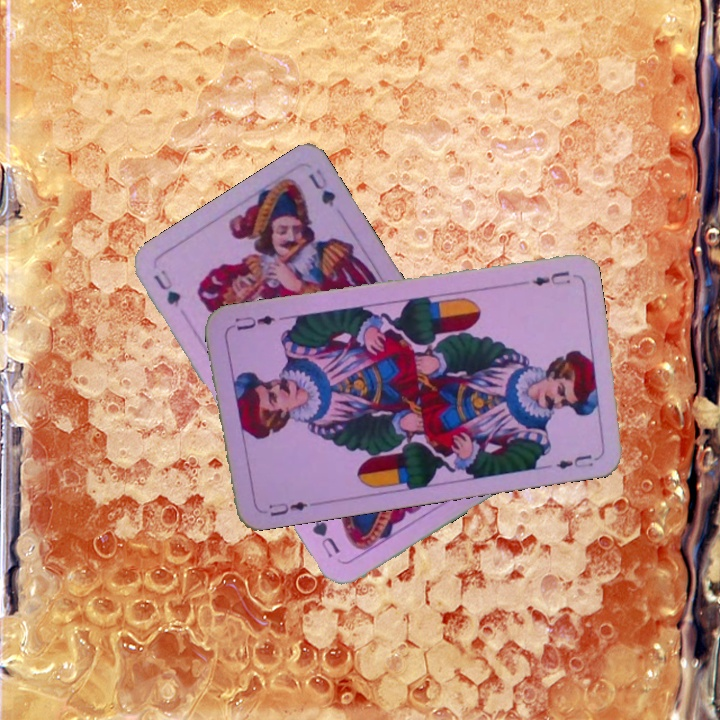EU: (264, 497, 310, 519), (528, 267, 573, 289)
GU: (149, 265, 184, 310)
